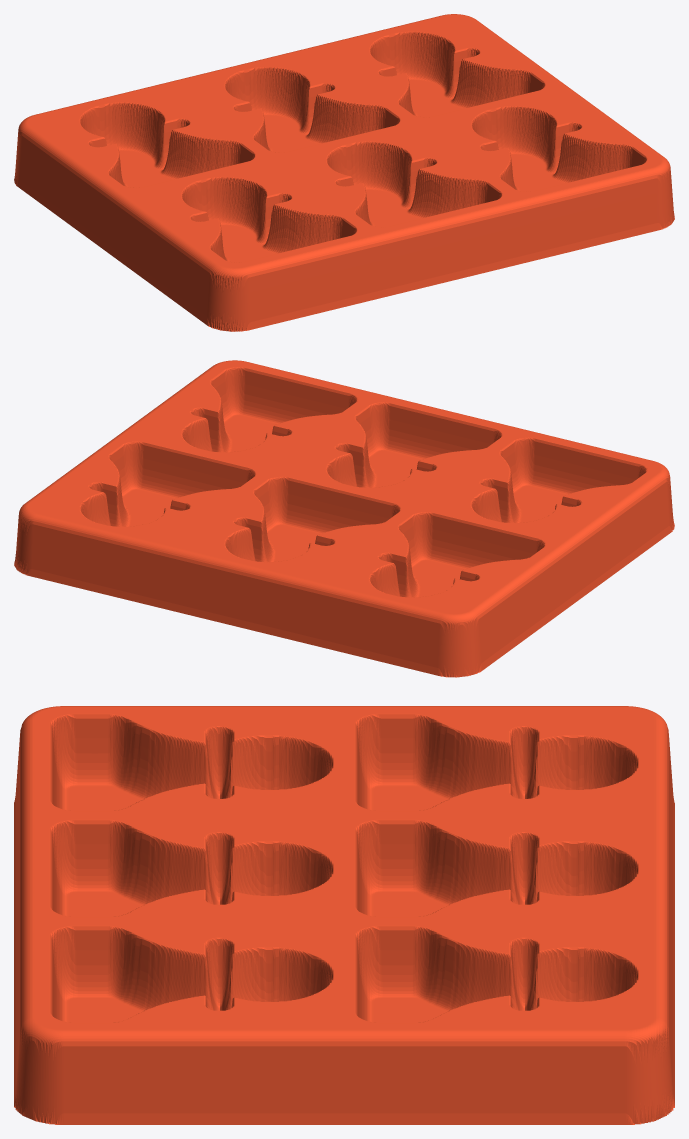
The model's file is mold.glb.
The picture shows the model from 3 angles, top to bottom: view 1: azimuth 30°, elevation 25°; view 2: azimuth 150°, elevation 25°; view 3: azimuth 270°, elevation 25°; orthographic projection. The views are drawn at different scales.
Parts seen in each view (by area): view 1: geometry_0; view 2: geometry_0; view 3: geometry_0.
Part boxes in pixels (box(x1,y1,x2,y2)): geometry_0: box(14, 14, 674, 331); geometry_0: box(14, 360, 674, 677); geometry_0: box(14, 706, 674, 1124).
Bounding box in the file's own units: 0.1472 × 0.0175 × 0.1211.
